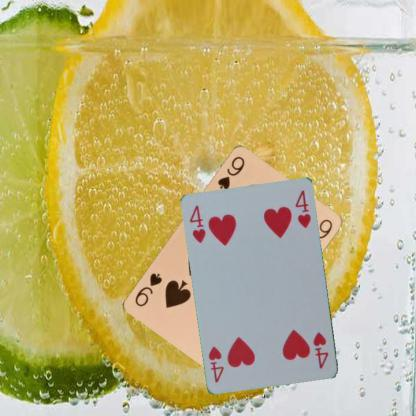4h: (187, 203, 208, 245), (310, 330, 330, 370)
9s: (215, 153, 246, 190)
